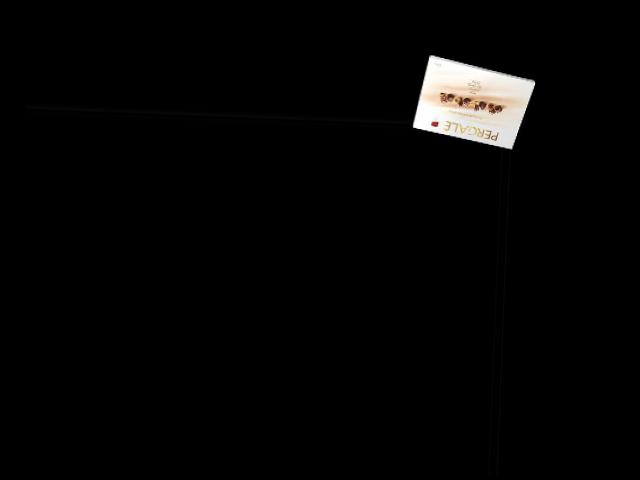chocolate: (416, 50, 531, 148)
